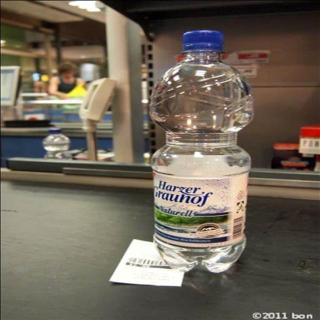Anorganik: (143, 24, 254, 280)
